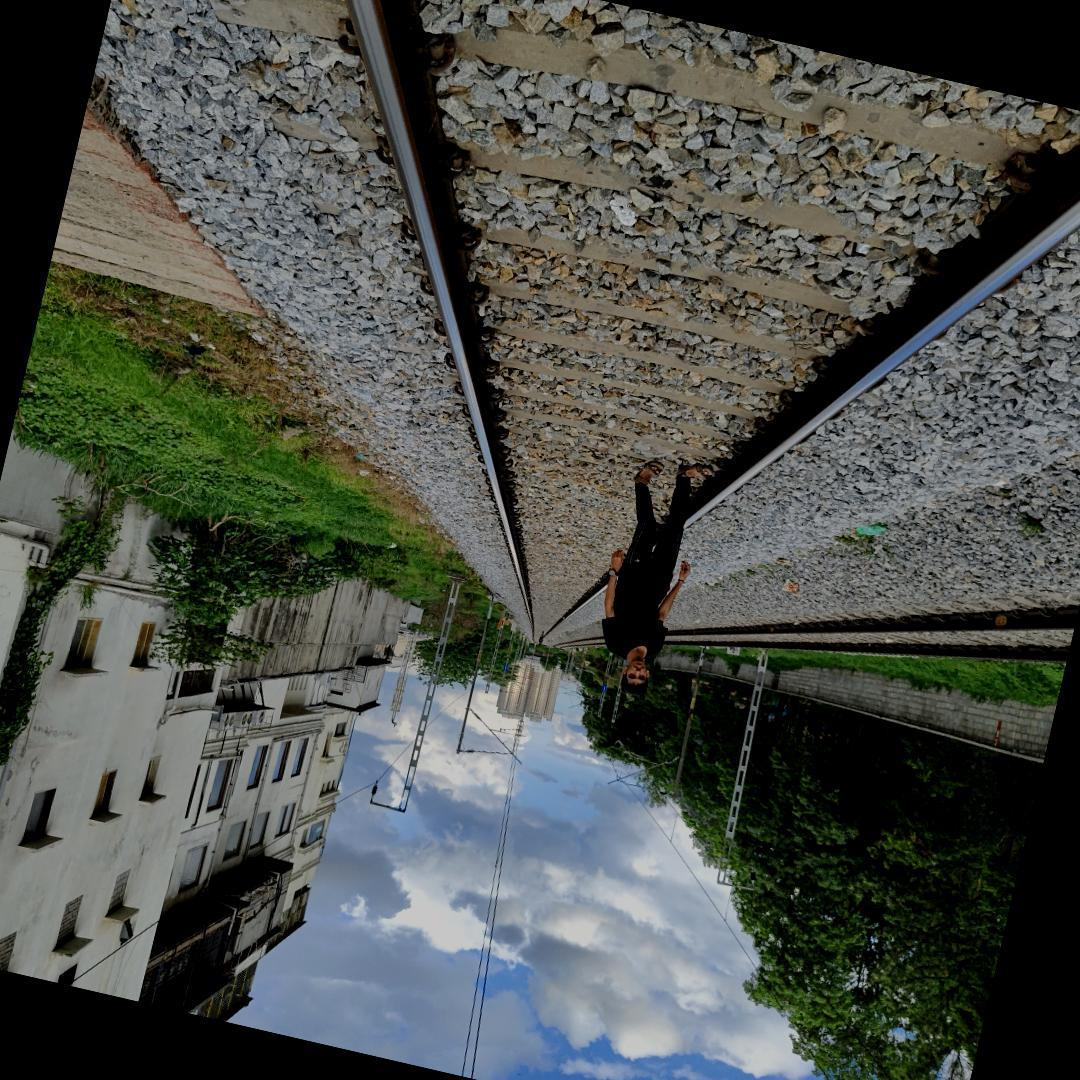standing: (568, 432, 727, 712)
